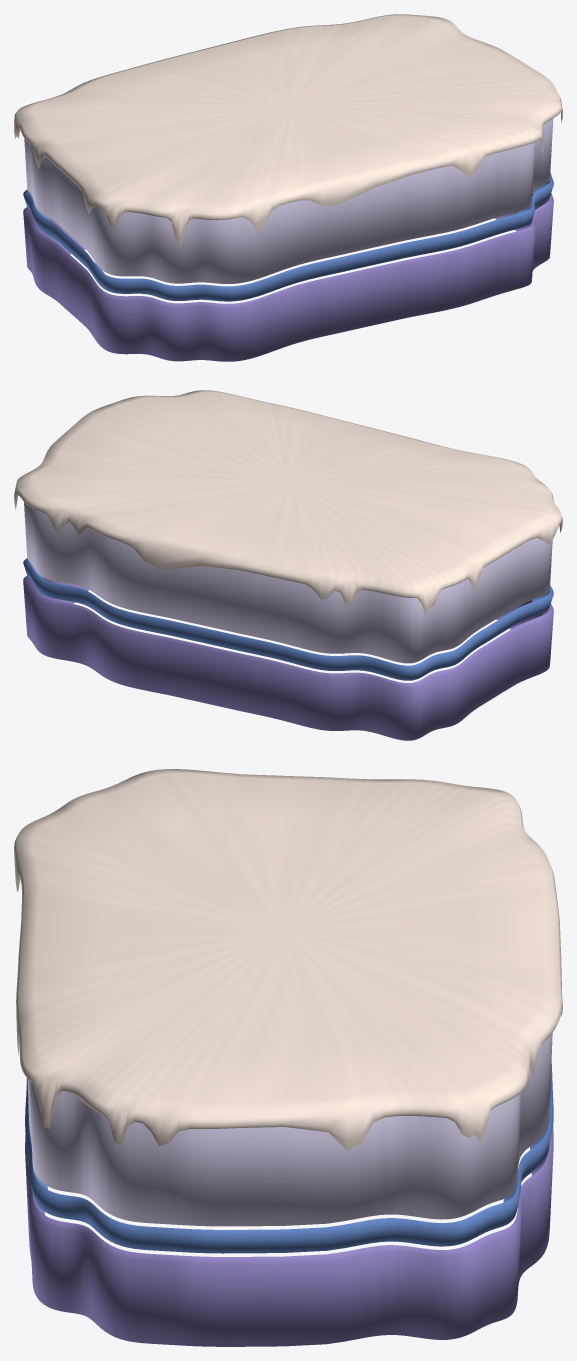
Rendered from sugar-mesa.glb.
3 views of the same model, one above another, from view 1: azimuth 30°, elevation 25°; view 2: azimuth 150°, elevation 25°; view 3: azimuth 270°, elevation 25° (orthographic). The views are drawn at different scales.
Parts seen in each view (by area): view 1: Poured icing and drips, Baked layer.002, Baked layer, Baked layer.001; view 2: Poured icing and drips, Baked layer.002, Baked layer, Baked layer.001; view 3: Poured icing and drips, Baked layer, Baked layer.002, Baked layer.001.
Part boxes in pixels (x1,y1,x2,y2): Poured icing and drips: [14, 14, 562, 247]; Baked layer.002: [24, 118, 553, 283]; Baked layer: [23, 193, 553, 361]; Baked layer.001: [23, 172, 553, 301]; Poured icing and drips: [14, 390, 562, 614]; Baked layer.002: [24, 502, 552, 663]; Baked layer: [23, 575, 553, 740]; Baked layer.001: [23, 558, 553, 680]; Poured icing and drips: [14, 769, 562, 1150]; Baked layer: [25, 1078, 553, 1346]; Baked layer.002: [27, 1033, 552, 1226]; Baked layer.001: [25, 1063, 553, 1253].
Size of the model in its own units: 12.94 by 4.36 by 8.5.
